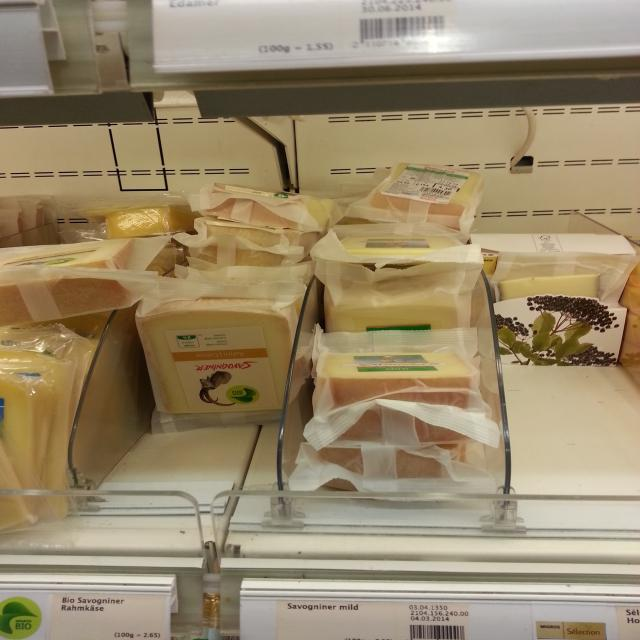Cheese: (469, 232, 638, 370), (138, 293, 304, 426), (315, 349, 478, 442), (0, 238, 135, 326), (367, 160, 485, 224), (200, 178, 332, 230), (330, 224, 466, 262), (102, 198, 191, 238)
